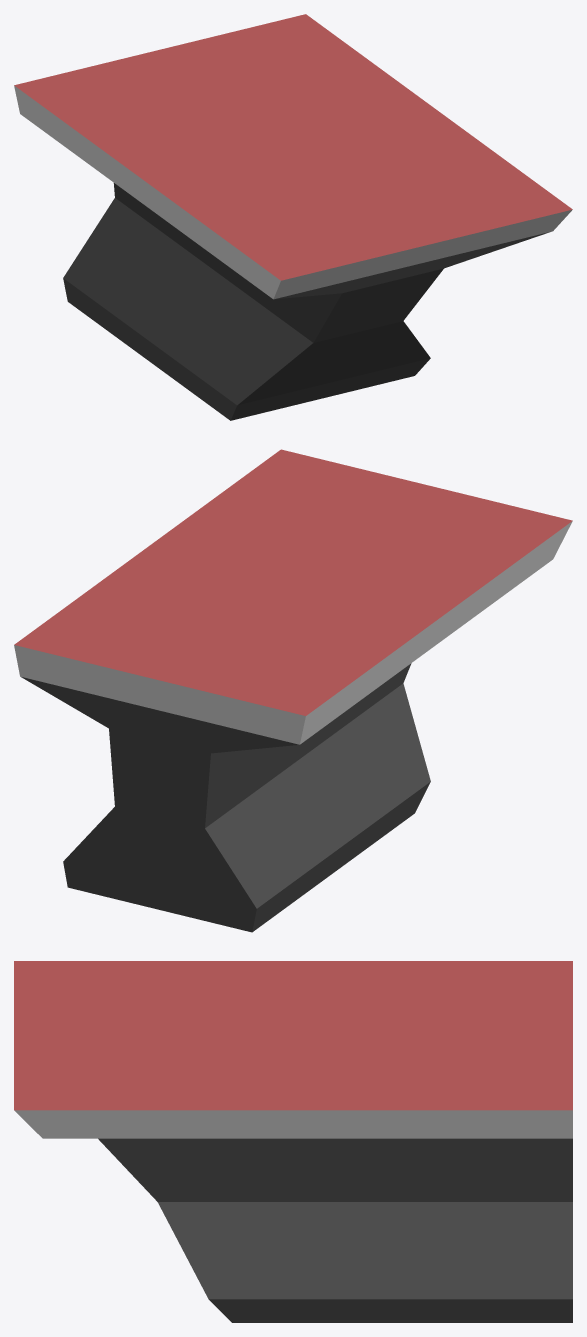
Rendered from BeamStud.fbx.
3 views of the same model, one above another, from view 1: azimuth 30°, elevation 25°; view 2: azimuth 150°, elevation 25°; view 3: azimuth 270°, elevation 25° (orthographic). The views are drawn at different scales.
Visible parts, largest first — view 1: BeamStud; view 2: BeamStud; view 3: BeamStud.
Boxes of the visible parts, box(x1,y1,x2,y2) form: BeamStud: box(14, 14, 572, 420); BeamStud: box(14, 449, 572, 932); BeamStud: box(14, 961, 572, 1322).
Bounding box in the file's own units: 131 × 98.28 × 207.
